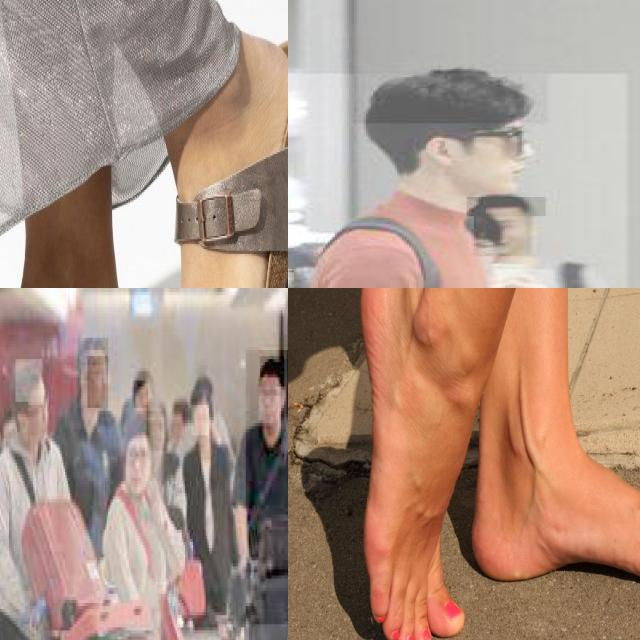Barefoots: (360, 288, 464, 640), (471, 439, 640, 590)
No_Ear-Protection: (418, 133, 464, 174)
Sandals: (0, 13, 288, 288)
face_nomask: (445, 122, 536, 198), (474, 216, 531, 256), (122, 438, 152, 494), (88, 356, 109, 408), (258, 378, 280, 423), (30, 386, 47, 438), (147, 411, 164, 451), (191, 405, 209, 435), (134, 380, 150, 411), (171, 411, 185, 441)
hand_noglove: (495, 269, 555, 288)
head_nohelmet: (354, 74, 548, 123), (466, 197, 546, 216), (16, 359, 44, 405), (78, 338, 108, 365), (260, 356, 284, 387)
person: (288, 73, 629, 288), (0, 365, 84, 640), (56, 338, 122, 575), (98, 426, 170, 640), (182, 393, 236, 621), (246, 349, 288, 627)
